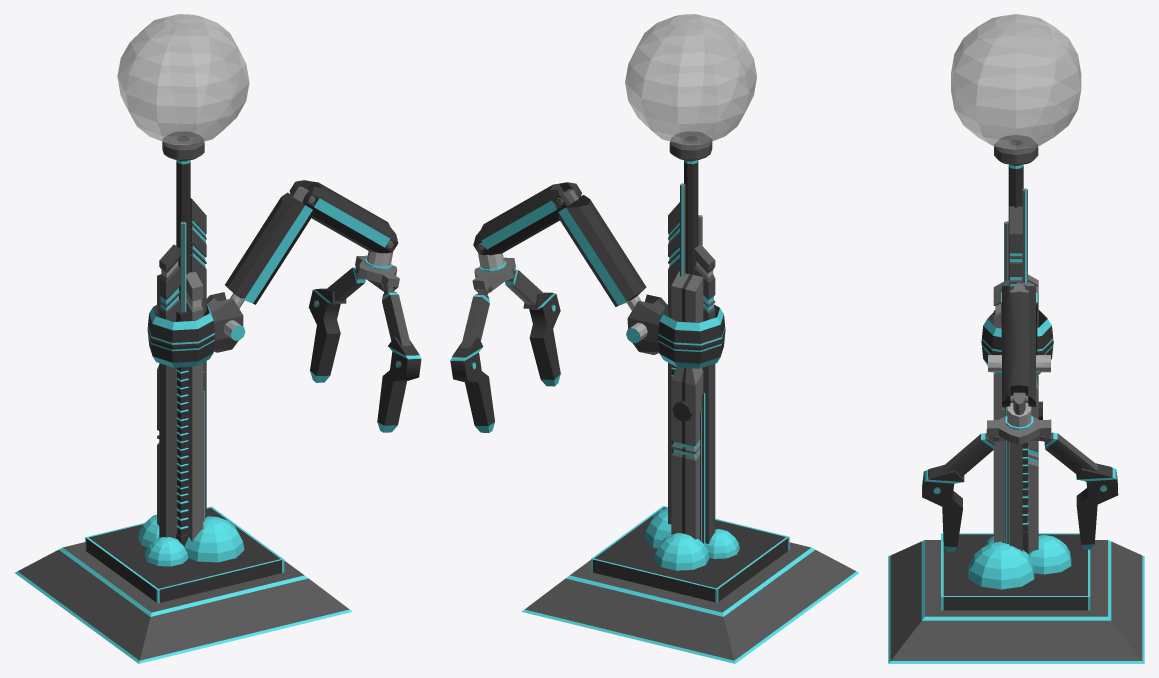
Rendered from PokeBot1.fbx.
The picture shows the model from 3 angles, left to right: view 1: azimuth 30°, elevation 25°; view 2: azimuth 150°, elevation 25°; view 3: azimuth 270°, elevation 25°; orthographic projection. The views are drawn at different scales.
Parts seen in each view (by area): view 1: PokeBot; view 2: PokeBot; view 3: PokeBot.
Part boxes in pixels (box(x1,y1,x2,y2)): PokeBot: box(15, 14, 421, 663); PokeBot: box(450, 14, 858, 663); PokeBot: box(888, 14, 1144, 663).
Size of the model in its own units: 149 by 254 by 99.92.
